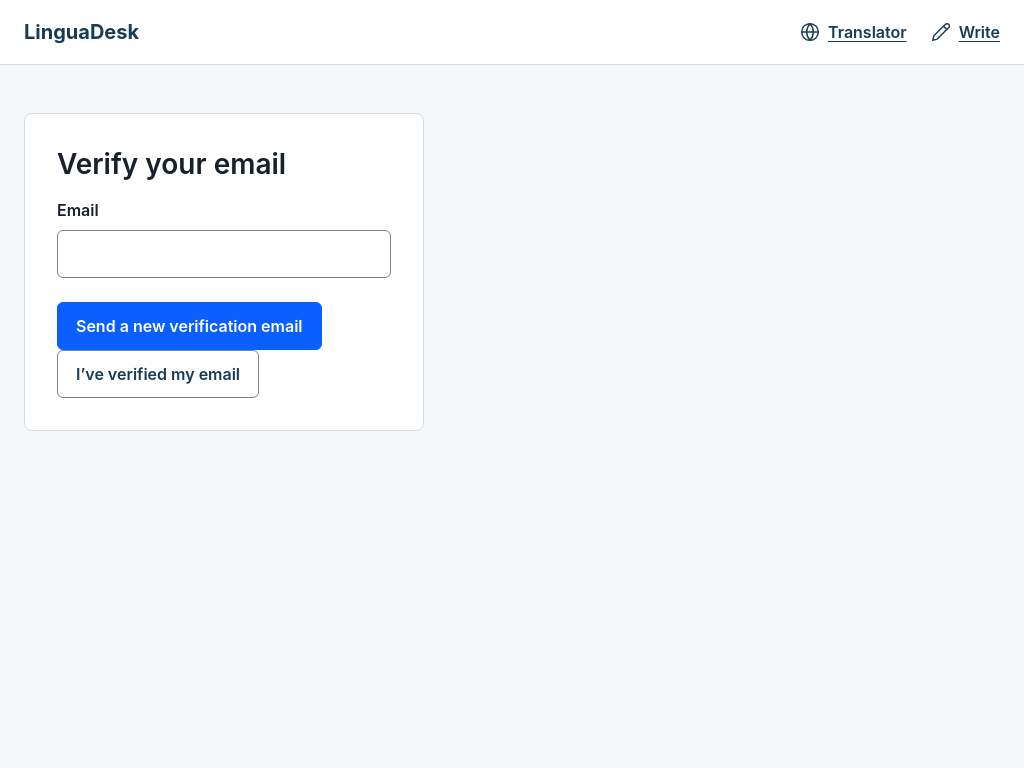
Scenario: verification resend (AC-002) › disables resend during flight and ignores duplicate activation
Check: the heading "Verify your email" is shown, box [57, 147, 286, 181]
Type "verify-visitor@example.test" into the field labelled "Email".
click(224, 254); type("verify-visitor@example.test")  # box [57, 230, 391, 278]
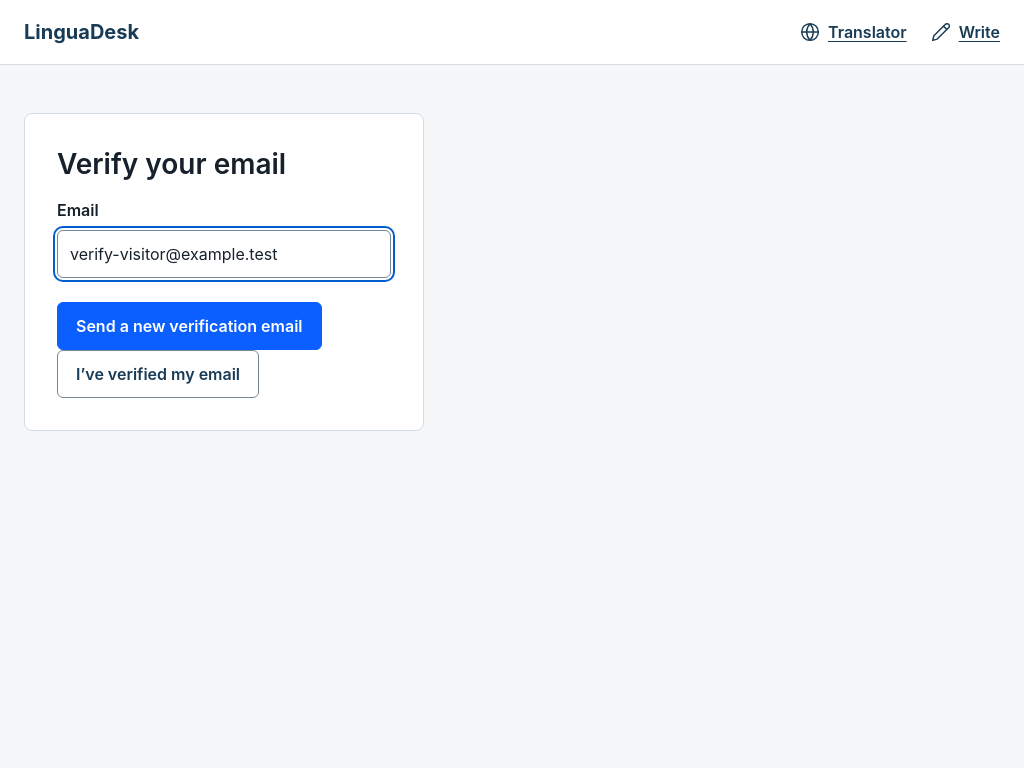
Click the button "Send a new verification email".
click(189, 326)  # box [57, 302, 322, 350]
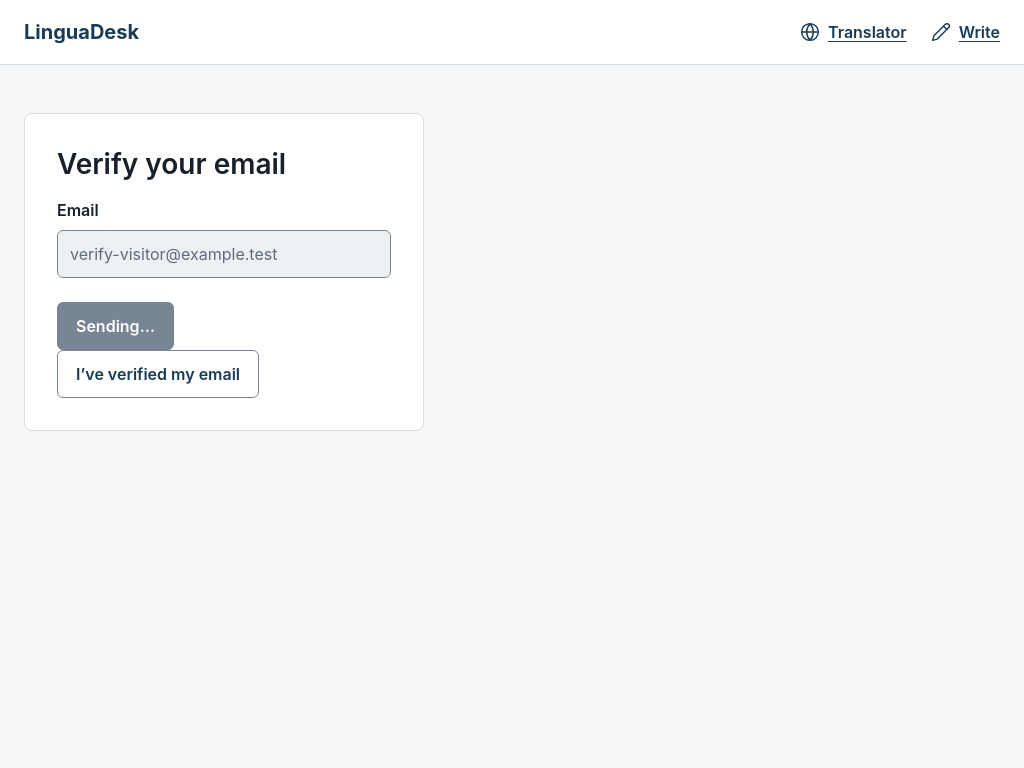
Click the button named "Send a new verification email".
click(115, 326)  # box [57, 302, 174, 350]
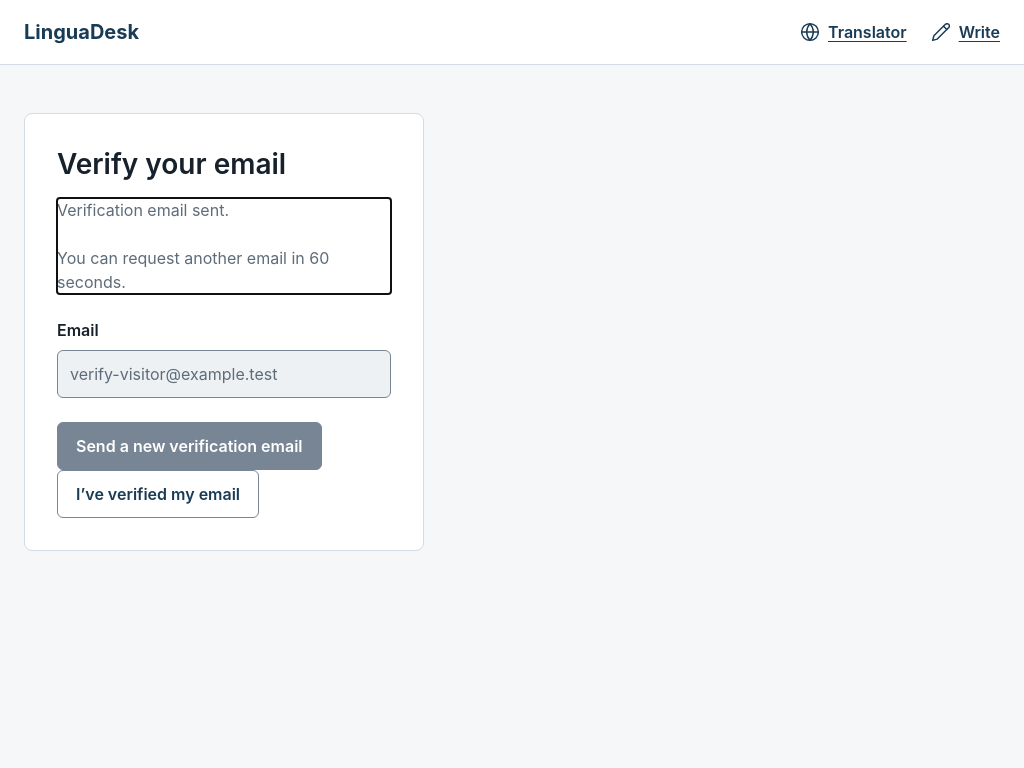
Check: the button "Send a new verification email" is disabled, box [57, 422, 322, 470]
Check: the text "Verification email sent." is shown, box [57, 200, 229, 220]
